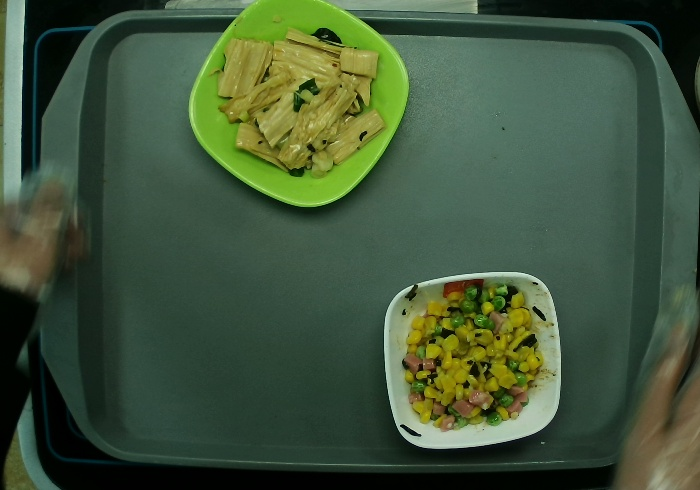SHKJ-Bai_Se_Xiao_Fang_Die: (383, 272, 566, 451)
SHKJ-Lv_Se_Cai_Die: (188, 4, 408, 211)
